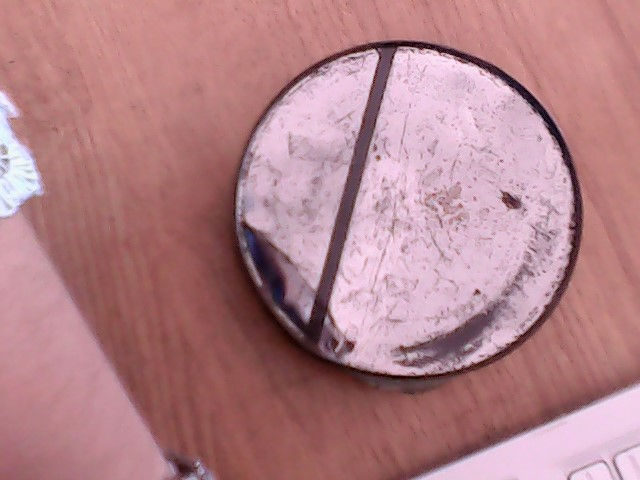Metal: (212, 26, 640, 383)
